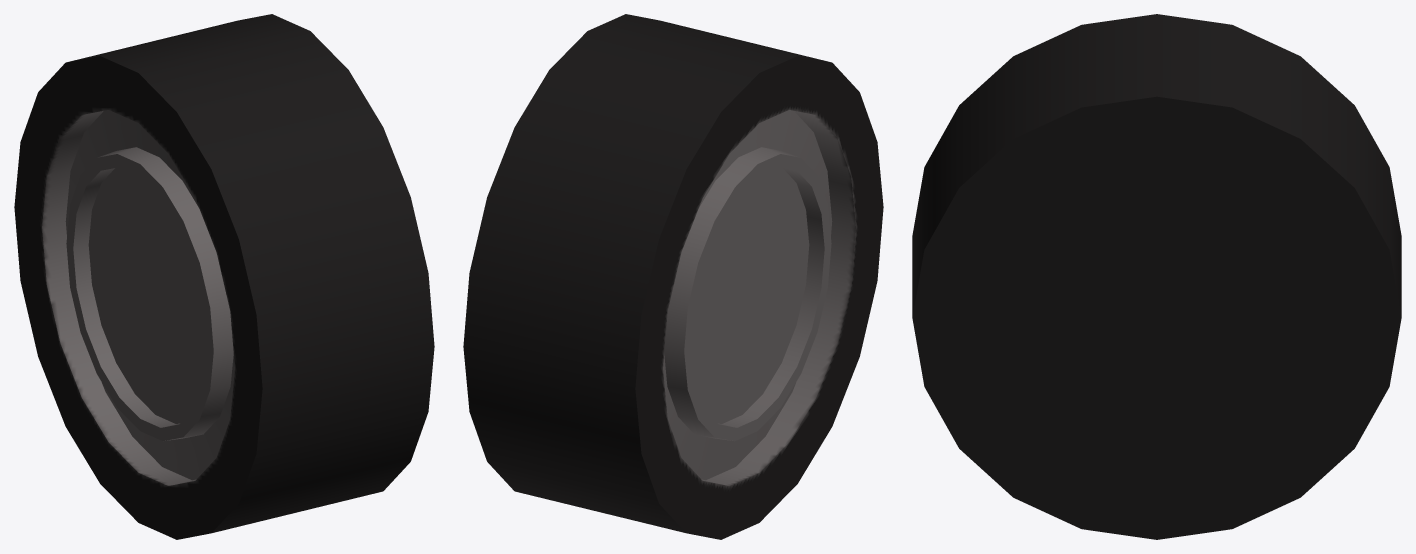
File: cardboard_car2_tire_front_right.fbx
3 renders of one model, left to right at view 1: azimuth 30°, elevation 25°; view 2: azimuth 150°, elevation 25°; view 3: azimuth 270°, elevation 25°, orthographic.
Parts seen in each view (by area): view 1: cardboard_car2_tire3; view 2: cardboard_car2_tire3; view 3: cardboard_car2_tire3.
Part boxes in pixels (x1=…): cardboard_car2_tire3: x1=14, y1=14, x2=434, y2=539; cardboard_car2_tire3: x1=463, y1=14, x2=883, y2=539; cardboard_car2_tire3: x1=912, y1=14, x2=1401, y2=539.
Size of the model in its own units: 20 by 50 by 50.
